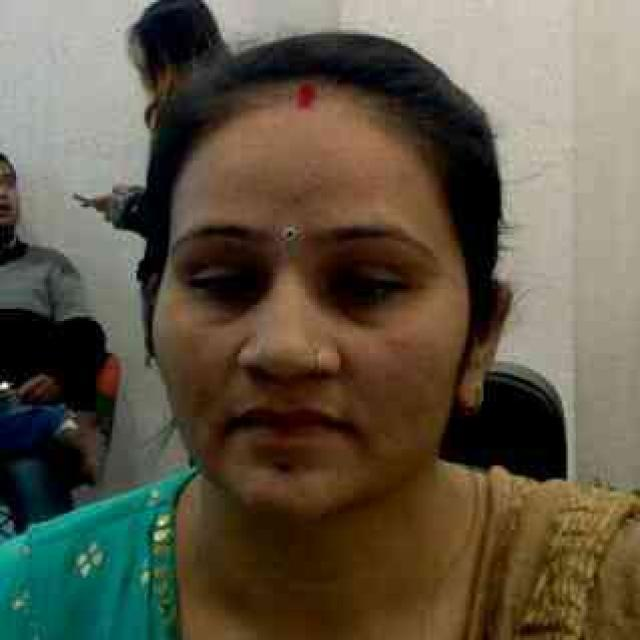puffy_eyes: (191, 260, 271, 319), (330, 295, 401, 327)
